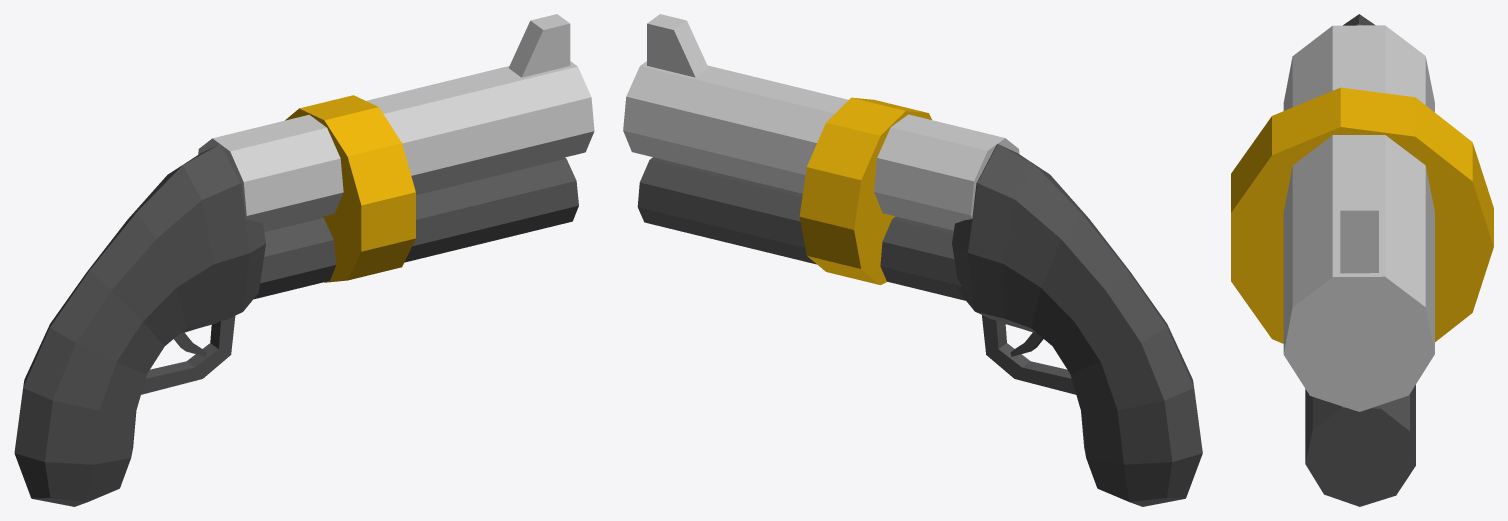
The model's file is 破旧手枪.fbx.
3 views of the same model, side by side, from view 1: azimuth 30°, elevation 25°; view 2: azimuth 150°, elevation 25°; view 3: azimuth 270°, elevation 25° (orthographic). The views are drawn at different scales.
Visible parts, largest first — view 1: Barrel; view 2: Barrel; view 3: Barrel.
Boxes of the visible parts, box(x1,y1,x2,y2) form: Barrel: box(14, 14, 594, 506); Barrel: box(623, 14, 1202, 506); Barrel: box(1231, 14, 1493, 506).
Bounding box in the file's own units: 334 × 212 × 92.6.
